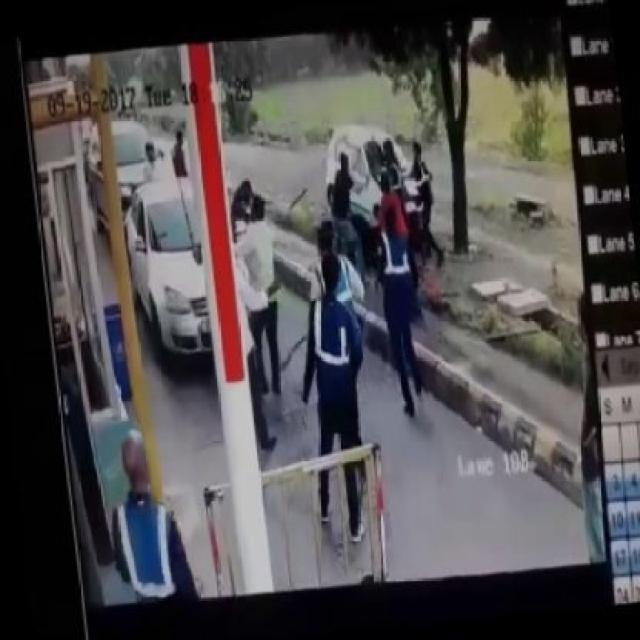fight: (221, 175, 287, 424)
